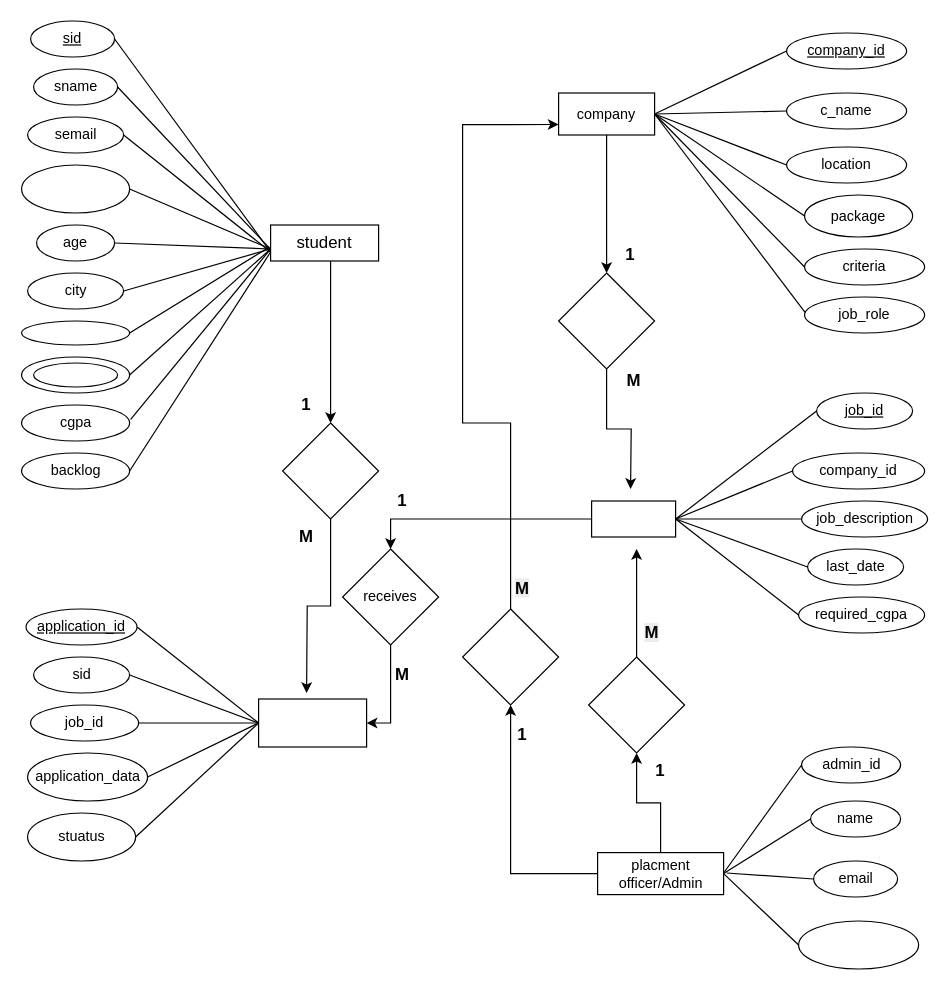
This 948x990 diagram has some shape labels left out. The shapes that lost their labels are listed below. From the top down, each one's centre as x and y in pixels, then its label:
the point at 75,188: collegename
the point at 75,332: gender
the point at 606,320: offers
the point at 75,374: smobile
the point at 330,470: applies
the point at 633,518: job
the point at 510,656: manges
the point at 312,722: Application
the point at 636,704: creates
the point at 858,944: password
